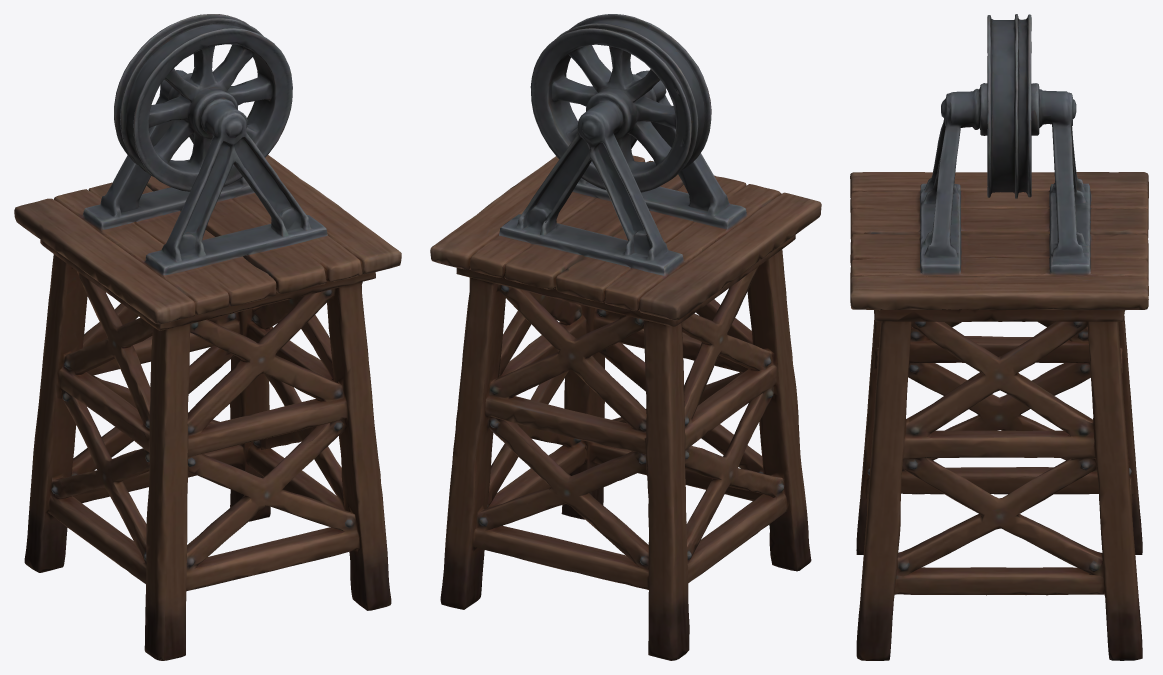
File: torre_andarivel.glb
3 renders of one model, left to right at view 1: azimuth 30°, elevation 25°; view 2: azimuth 150°, elevation 25°; view 3: azimuth 270°, elevation 25°, orthographic. The views are drawn at different scales.
Visible parts, largest first — view 1: geometry_0; view 2: geometry_0; view 3: geometry_0.
Part boxes in pixels (x1=…): geometry_0: x1=14, y1=14, x2=401, y2=660; geometry_0: x1=430, y1=14, x2=821, y2=660; geometry_0: x1=850, y1=14, x2=1148, y2=660.
Size of the model in its own units: 0.4633 by 1 by 0.4693.
1 material, 1 textured.
